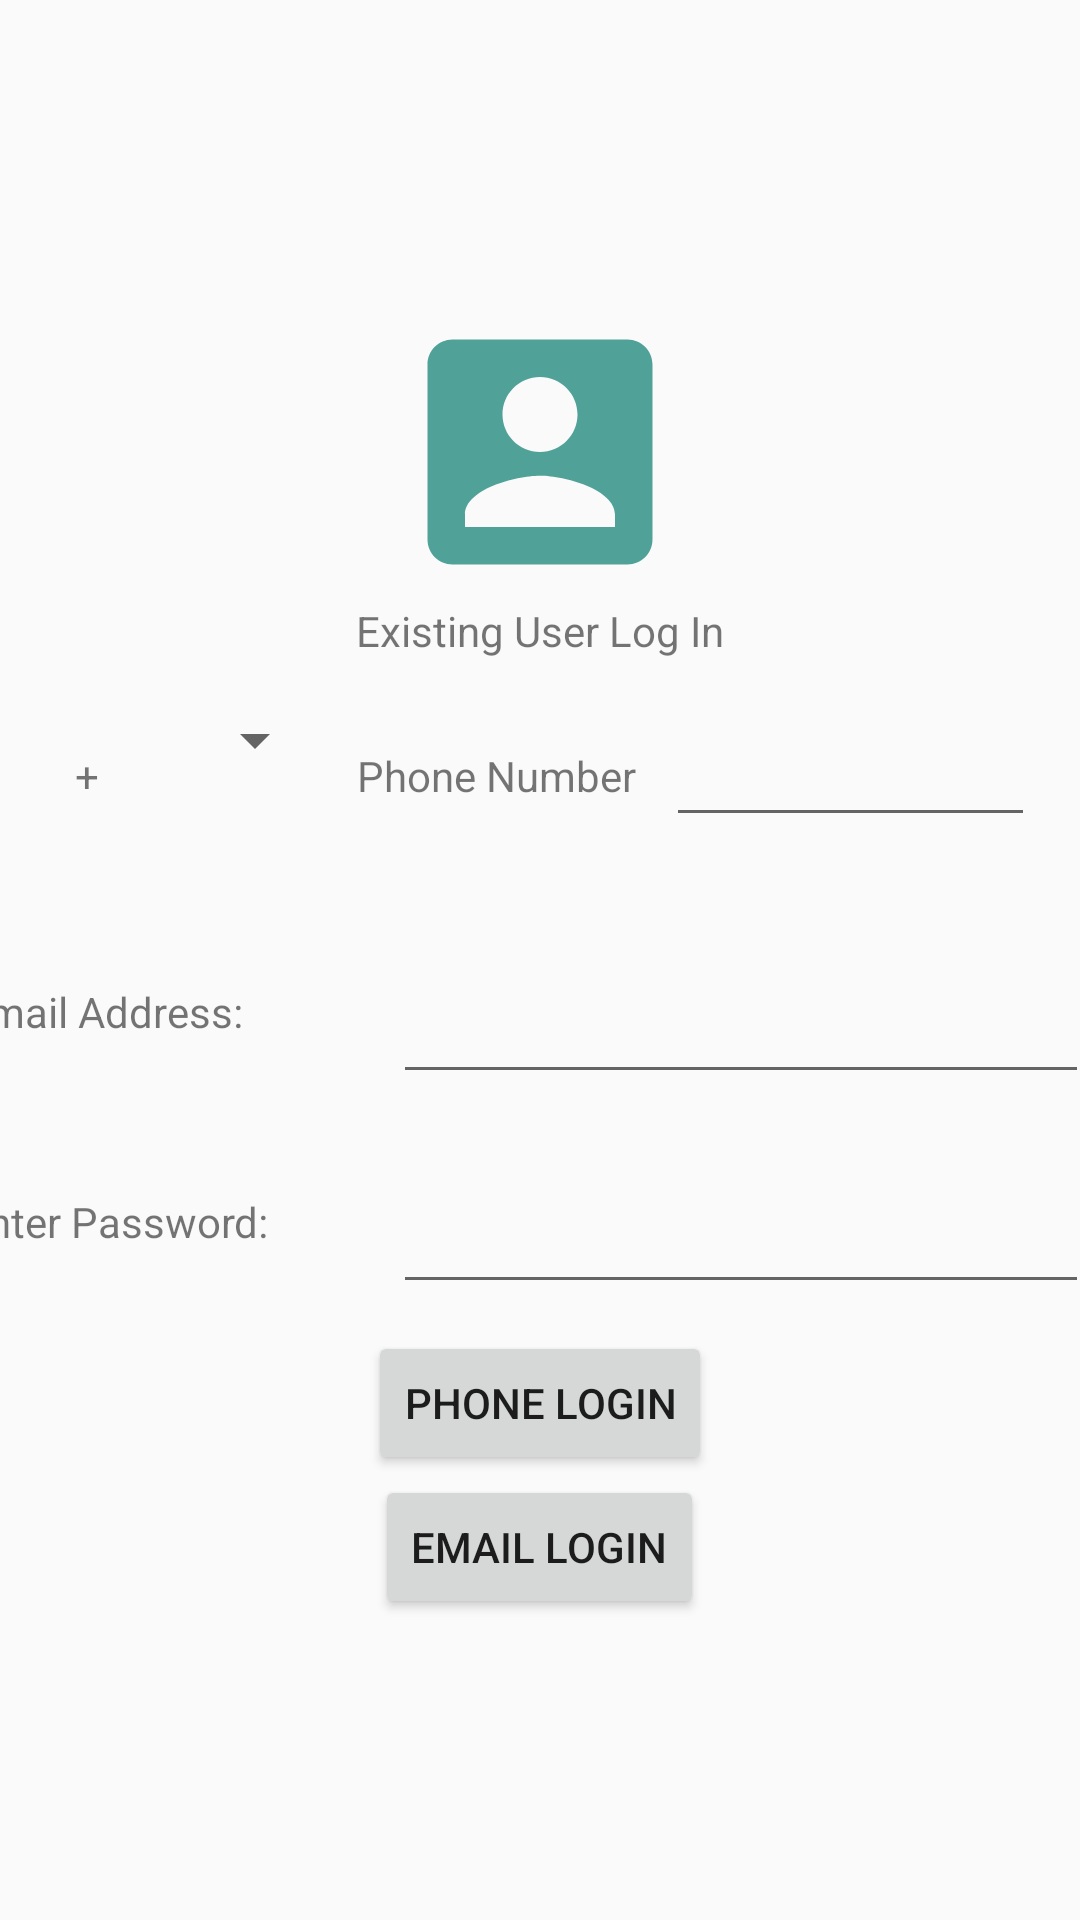

Named icons in this screenshot (1080*1920) and their centers, (x,y):
account box: (540,452)
